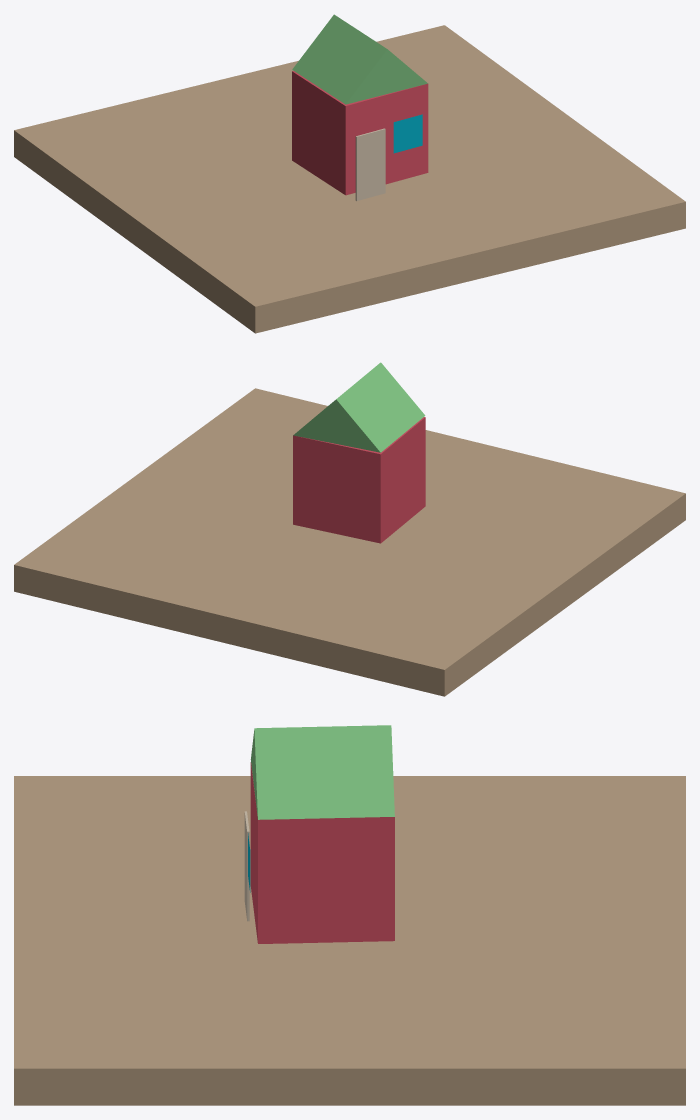
The model's file is Shiny Wluff.glb.
3 views of the same model, one above another, from view 1: azimuth 30°, elevation 25°; view 2: azimuth 150°, elevation 25°; view 3: azimuth 270°, elevation 25° (orthographic). The views are drawn at different scales.
Parts seen in each view (by area): view 1: Mesh_Mesh_head_geo.001_lambert2SG.001; view 2: Mesh_Mesh_head_geo.001_lambert2SG.001; view 3: Mesh_Mesh_head_geo.001_lambert2SG.001.
Part boxes in pixels (box(x1,y1,x2,y2)): Mesh_Mesh_head_geo.001_lambert2SG.001: box(14, 14, 685, 333); Mesh_Mesh_head_geo.001_lambert2SG.001: box(14, 362, 685, 696); Mesh_Mesh_head_geo.001_lambert2SG.001: box(14, 725, 685, 1105).
Size of the model in its own units: 101 by 37.58 by 98.
